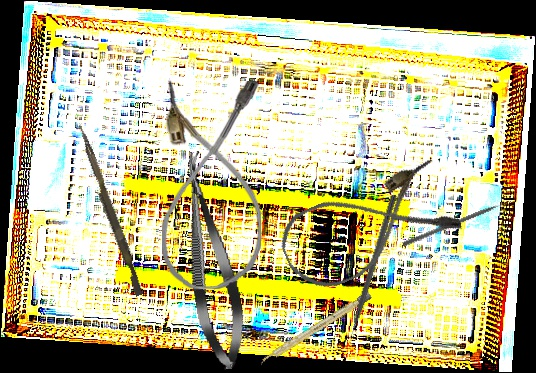Cannula: (271, 156, 465, 300), (161, 79, 264, 290)
Hook Surgical: (343, 193, 398, 351)
Micro Scissor: (169, 148, 253, 373)
Pusher: (71, 123, 148, 297), (402, 198, 513, 248)
Scalpel Handle: (257, 291, 373, 367)
